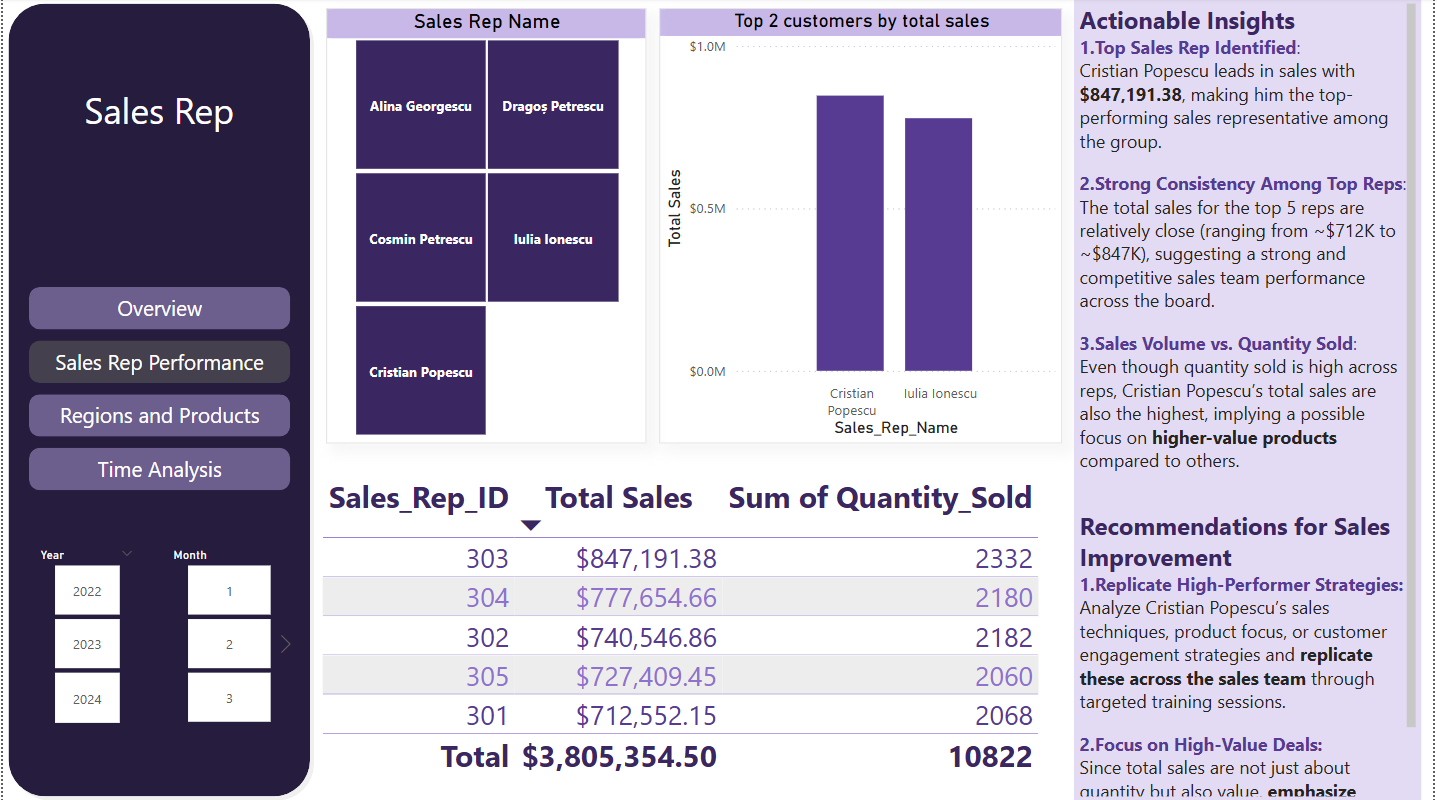

The page's visual inventory and layout, read from the dashboard file:
{"tool":"powerbi","page":{"name":"Sales Rep Performance","canvas":[1280,720],"ordinal":1},"visuals":[{"type":"columnChart","title":"Top 2 customers by total sales ","fields":{"Y":["Orders.Total Sales"],"Category":["Sales_Reps.Sales_Rep_Name"]},"box":[587.8,8.9,361.1,390],"z":0},{"type":"tableEx","fields":{"Values":["Orders.Sales_Rep_ID","Orders.Total Sales","Orders.Quantity_Sold"]},"box":[280,422.2,668.9,297.8],"z":1000},{"type":"slicer","title":"Sales Rep Name","fields":{"Values":["Sales_Reps.Sales_Rep_Name"]},"box":[288.9,8.9,286.7,390],"z":2000},{"type":"shape","box":[0,0,280,720],"z":3000},{"type":"pageNavigator","box":[23.3,258.8,234.6,184.5],"z":4000},{"type":"textbox","box":[33.3,72.2,213.3,65.6],"z":5000},{"type":"slicer","fields":{"Values":["Orders.Year"]},"box":[20.8,486.8,107.9,168.6],"z":6000},{"type":"slicer","fields":{"Values":["Orders.Month"]},"box":[139.7,487.2,124.5,168.4],"z":7000},{"type":"textbox","box":[958.9,0,311.1,720],"z":8000}]}

Visuals, with their boxes in screenshot pixels (x1, y1, x2, y2), scaled from the page's 1280x720 canvas onto the 1437x800 screenshot:
"Top 2 customers by total sales " columnChart: BBox(660, 10, 1065, 443)
tableEx - Orders.Sales_Rep_ID x Orders.Total Sales: BBox(314, 469, 1065, 799)
"Sales Rep Name" slicer: BBox(324, 10, 646, 443)
shape: BBox(0, 0, 314, 799)
pageNavigator: BBox(26, 288, 290, 493)
textbox: BBox(37, 80, 277, 153)
slicer - Orders.Year: BBox(23, 541, 144, 728)
slicer - Orders.Month: BBox(157, 541, 297, 728)
textbox: BBox(1077, 0, 1426, 799)
